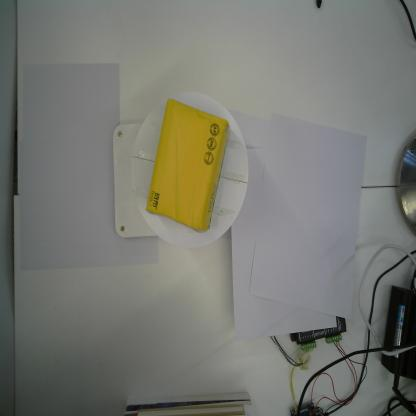Tissue: (145, 98, 230, 235)
